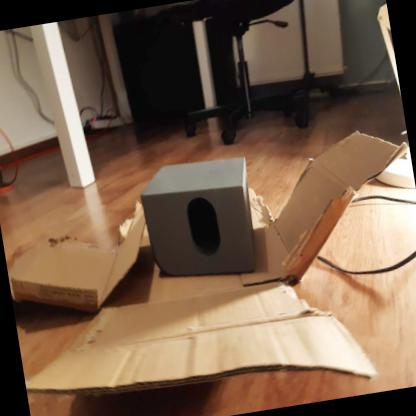CornerCasting: (126, 145, 269, 288)
